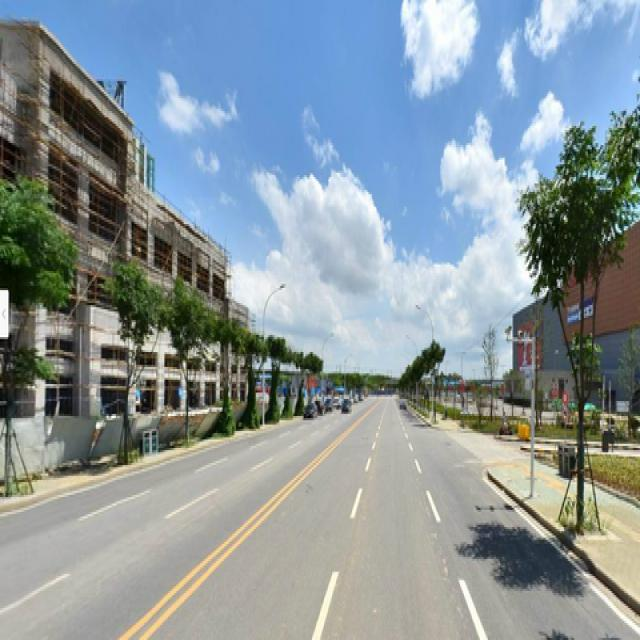koel: (525, 122, 631, 536)
